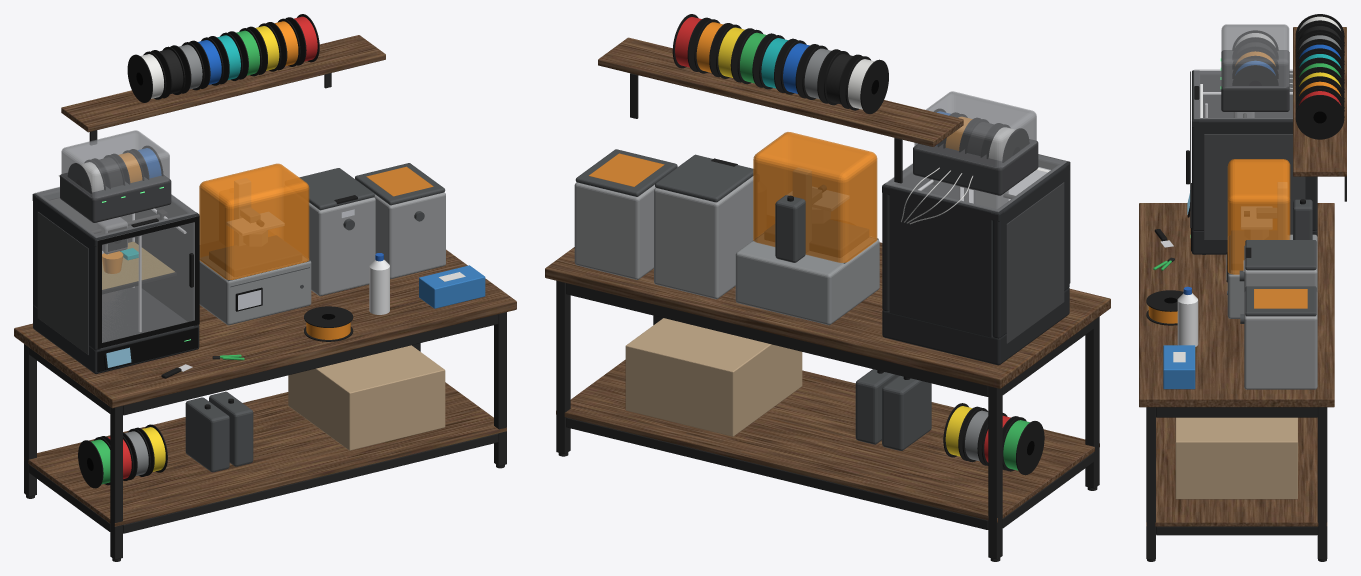
File: printtable.glb
3 renders of one model, left to right at view 1: azimuth 30°, elevation 25°; view 2: azimuth 150°, elevation 25°; view 3: azimuth 270°, elevation 25°, orthographic. The views are drawn at different scales.
Visible parts, largest first — view 1: Drucktisch_Aluminium, Drucktisch_Nussbaum_X, Drucktisch_Haube_orange, Drucktisch_Glas_rauch, Drucktisch_AMS_Deckel, Drucktisch_PEI_Platte; view 2: Drucktisch_Aluminium, Drucktisch_Nussbaum_X, Drucktisch_Haube_orange, Drucktisch_AMS_Deckel, Drucktisch_Glas_rauch; view 3: Drucktisch_Aluminium, Drucktisch_Nussbaum_X, Drucktisch_Haube_orange, Drucktisch_AMS_Deckel, Drucktisch_Glas_rauch.
Part boxes in pixels (bbox=[...]): Drucktisch_Aluminium: bbox=[24, 14, 506, 561]; Drucktisch_Nussbaum_X: bbox=[14, 35, 516, 526]; Drucktisch_Haube_orange: bbox=[199, 163, 433, 279]; Drucktisch_Glas_rauch: bbox=[35, 187, 196, 342]; Drucktisch_AMS_Deckel: bbox=[61, 130, 169, 198]; Drucktisch_PEI_Platte: bbox=[102, 241, 174, 289]; Drucktisch_Aluminium: bbox=[556, 14, 1099, 561]; Drucktisch_Nussbaum_X: bbox=[545, 37, 1110, 522]; Drucktisch_Haube_orange: bbox=[589, 132, 877, 262]; Drucktisch_AMS_Deckel: bbox=[914, 91, 1036, 167]; Drucktisch_Glas_rauch: bbox=[885, 154, 1069, 211]; Drucktisch_Aluminium: bbox=[1146, 14, 1346, 561]; Drucktisch_Nussbaum_X: bbox=[1139, 27, 1346, 526]; Drucktisch_Haube_orange: bbox=[1227, 159, 1307, 308]; Drucktisch_AMS_Deckel: bbox=[1221, 24, 1289, 87]; Drucktisch_Glas_rauch: bbox=[1194, 69, 1292, 118].
Bounding box in the file's own units: 1.9 × 1.86 × 0.85.
Materials: 9 (5 with a texture image).
